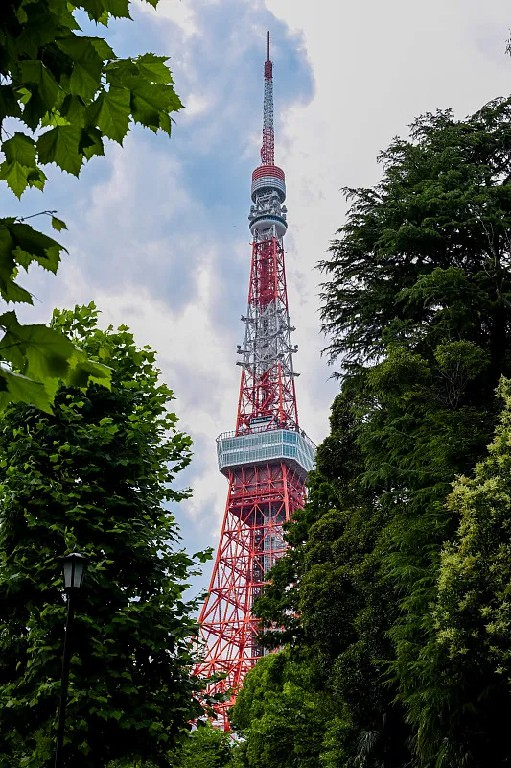Tokyo: (180, 28, 315, 732)
